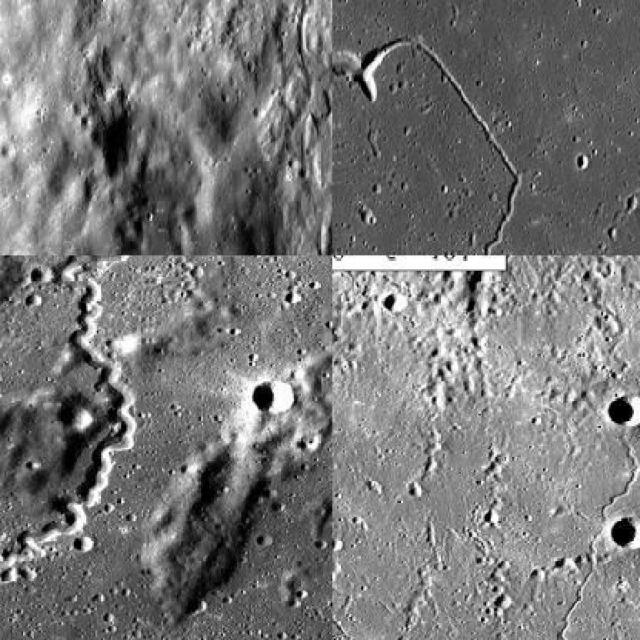rille: (0, 256, 331, 570), (332, 0, 638, 254), (558, 440, 638, 638), (284, 0, 314, 74)
